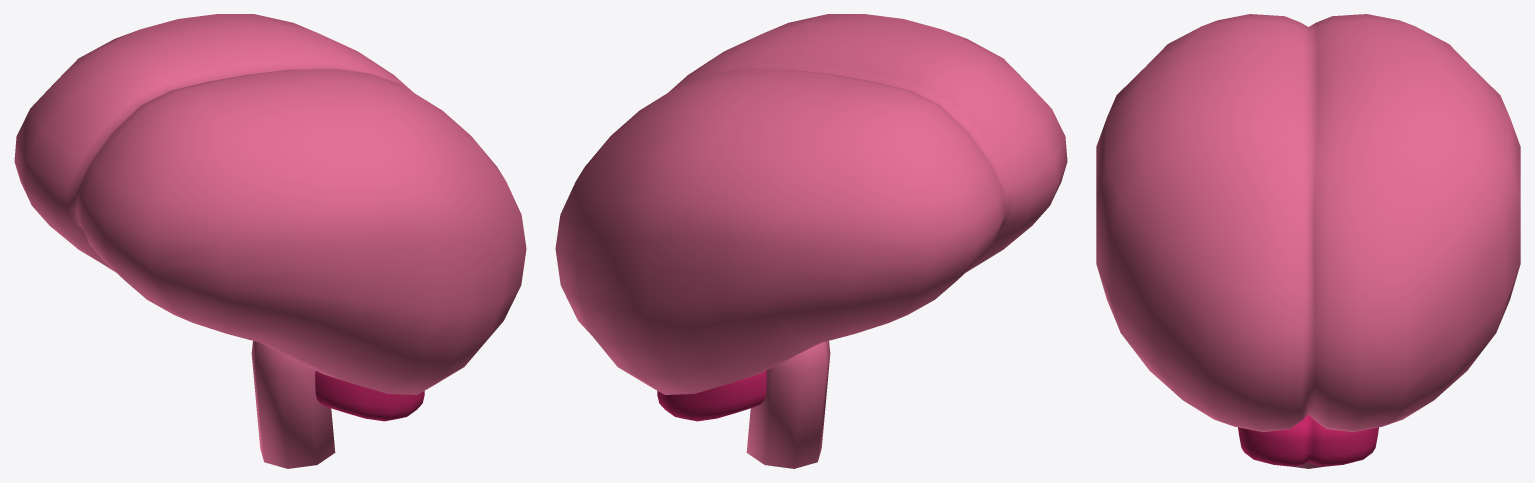
Rendered from brain.FBX.
3 renders of one model, left to right at view 1: azimuth 30°, elevation 25°; view 2: azimuth 150°, elevation 25°; view 3: azimuth 270°, elevation 25°, orthographic. The views are drawn at different scales.
Visible parts, largest first — view 1: Box001, cer, Box002; view 2: Box001, cer, Box002; view 3: Box001, Box002.
Part boxes in pixels (x1=…): Box001: x1=14, y1=14, x2=526, y2=394; cer: x1=251, y1=341, x2=335, y2=468; Box002: x1=315, y1=371, x2=424, y2=421; Box001: x1=555, y1=14, x2=1067, y2=394; cer: x1=746, y1=341, x2=830, y2=468; Box002: x1=657, y1=371, x2=766, y2=421; Box001: x1=1096, y1=14, x2=1520, y2=432; Box002: x1=1238, y1=414, x2=1378, y2=466.
Size of the model in its own units: 31.57 by 28.95 by 29.19.
